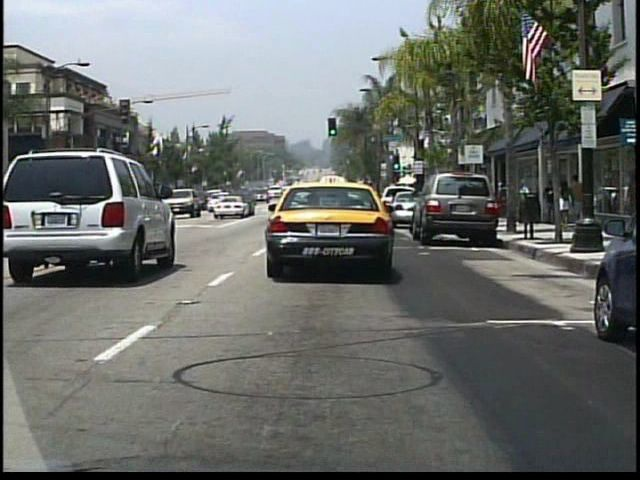person: (570, 172, 590, 231), (542, 176, 559, 225), (559, 175, 573, 228)
